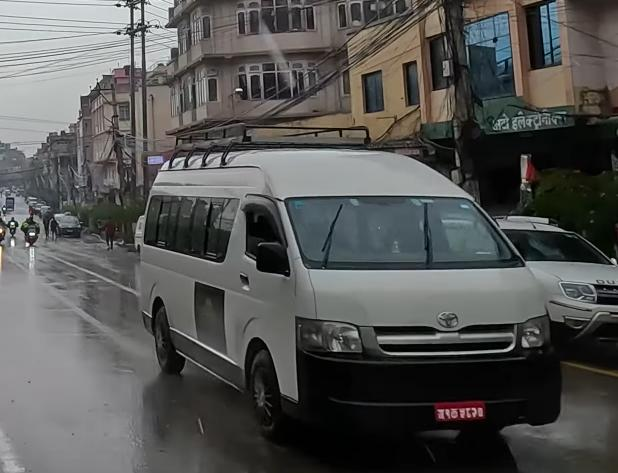micro_bus: (126, 136, 568, 443)
